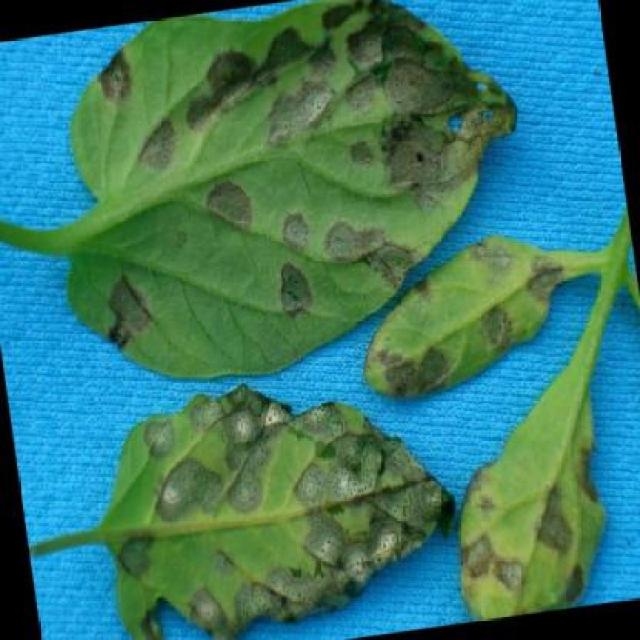Septoria leaf spot: (16, 1, 561, 409), (30, 354, 487, 640), (438, 336, 630, 621), (342, 223, 585, 410)
